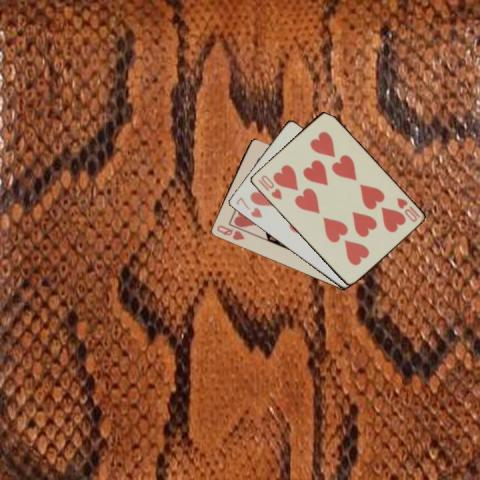10h: (255, 172, 283, 201), (394, 195, 422, 223)
7h: (233, 194, 263, 219)
Qh: (213, 222, 247, 242)
